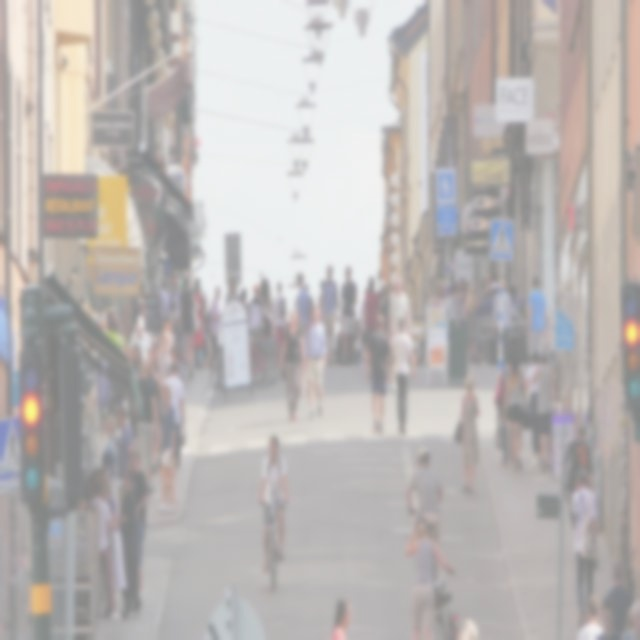pessoa: (404, 512, 455, 639), (86, 476, 122, 620), (256, 434, 290, 576), (570, 465, 598, 628), (114, 468, 144, 620), (405, 446, 445, 548), (132, 358, 160, 493), (563, 422, 595, 538), (152, 379, 178, 514), (364, 314, 392, 438), (387, 314, 415, 438), (531, 348, 559, 472), (502, 351, 530, 474), (128, 450, 150, 602), (453, 373, 480, 495), (280, 306, 308, 422), (386, 273, 413, 392), (101, 476, 128, 594), (302, 304, 328, 420), (576, 593, 640, 640), (162, 360, 186, 470), (114, 404, 135, 519), (494, 352, 514, 467), (604, 558, 632, 636), (524, 350, 542, 470), (146, 347, 163, 472), (178, 276, 198, 382), (320, 262, 340, 366), (491, 277, 514, 367), (339, 265, 358, 367), (204, 284, 226, 372), (362, 274, 380, 374), (128, 341, 144, 452), (527, 274, 548, 358), (271, 280, 289, 368), (294, 270, 310, 356), (462, 282, 478, 364), (164, 344, 188, 396), (247, 282, 267, 338), (356, 285, 370, 364), (192, 274, 204, 366), (258, 276, 274, 340), (330, 594, 352, 638), (478, 274, 498, 318), (128, 314, 152, 350), (156, 328, 172, 380), (103, 414, 115, 482), (130, 298, 152, 334), (166, 277, 181, 327), (156, 318, 174, 354), (108, 315, 125, 353), (334, 327, 351, 365), (378, 282, 390, 334), (202, 296, 210, 371), (304, 281, 316, 331), (157, 277, 170, 323), (80, 474, 96, 510), (224, 273, 240, 307), (353, 318, 364, 366), (454, 276, 469, 310), (455, 617, 478, 639), (317, 278, 327, 326), (496, 222, 510, 255), (441, 170, 452, 202), (238, 282, 250, 310), (92, 462, 106, 478), (448, 284, 457, 307), (375, 288, 384, 304)
